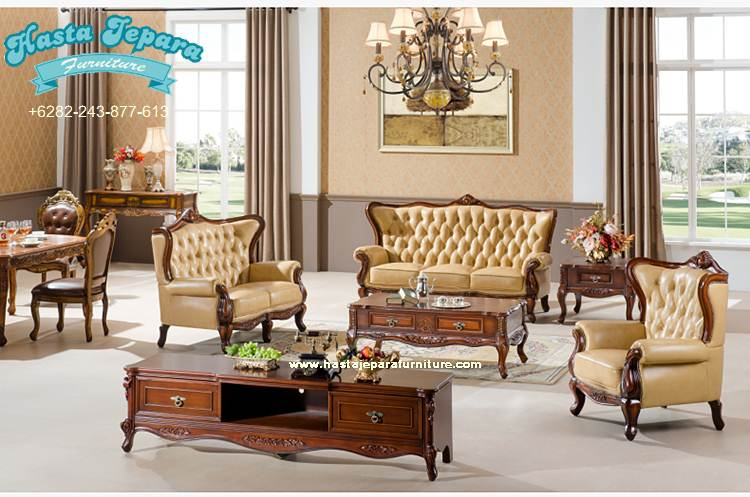Carving Chair: (578, 255, 735, 429), (358, 188, 552, 316), (154, 204, 304, 348), (50, 216, 117, 338)
Carving Table: (122, 351, 462, 488)
